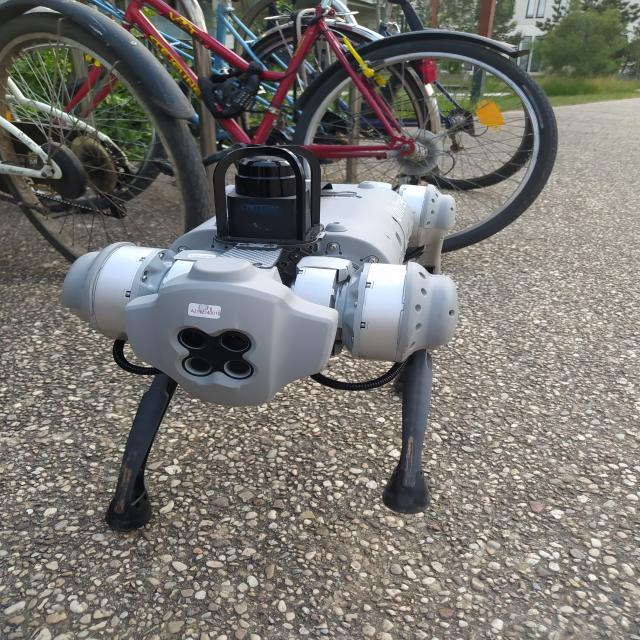unitree-go1-robot: (48, 130, 464, 530)
